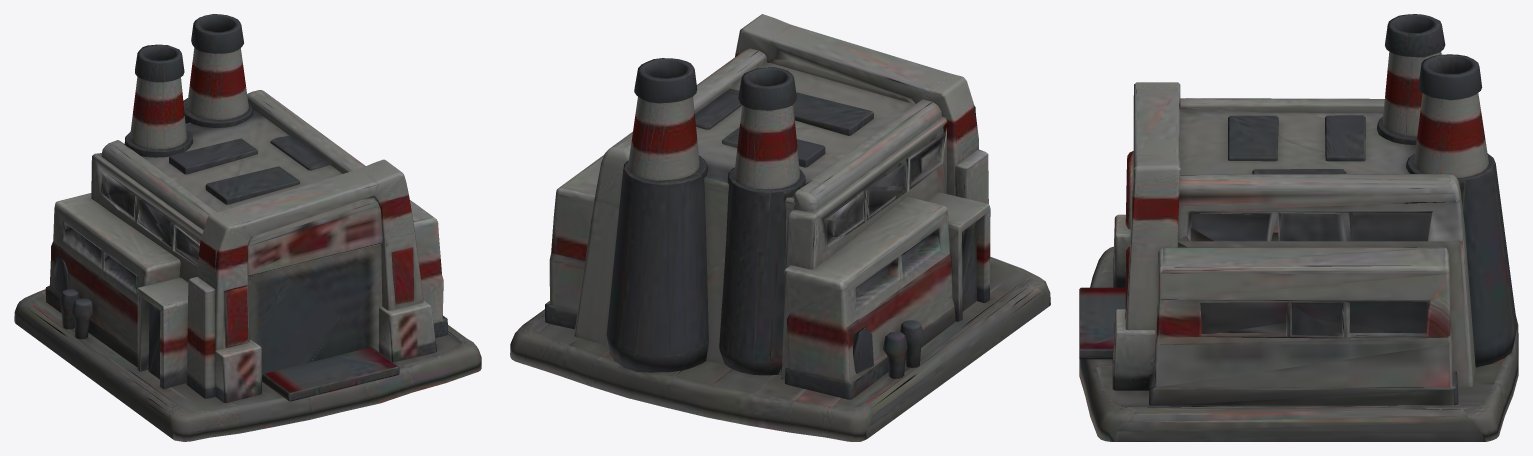
Rendered from factory.glb.
3 renders of one model, left to right at view 1: azimuth 30°, elevation 25°; view 2: azimuth 150°, elevation 25°; view 3: azimuth 270°, elevation 25°, orthographic. The views are drawn at different scales.
Parts seen in each view (by area): view 1: hull; view 2: hull; view 3: hull.
Part boxes in pixels (x1,y1,x2,y2): hull: (14, 14, 481, 441); hull: (510, 14, 1050, 441); hull: (1079, 14, 1518, 441).
Size of the model in its own units: 0.9466 by 0.7801 by 1.
Materials: 1 (1 with a texture image).
